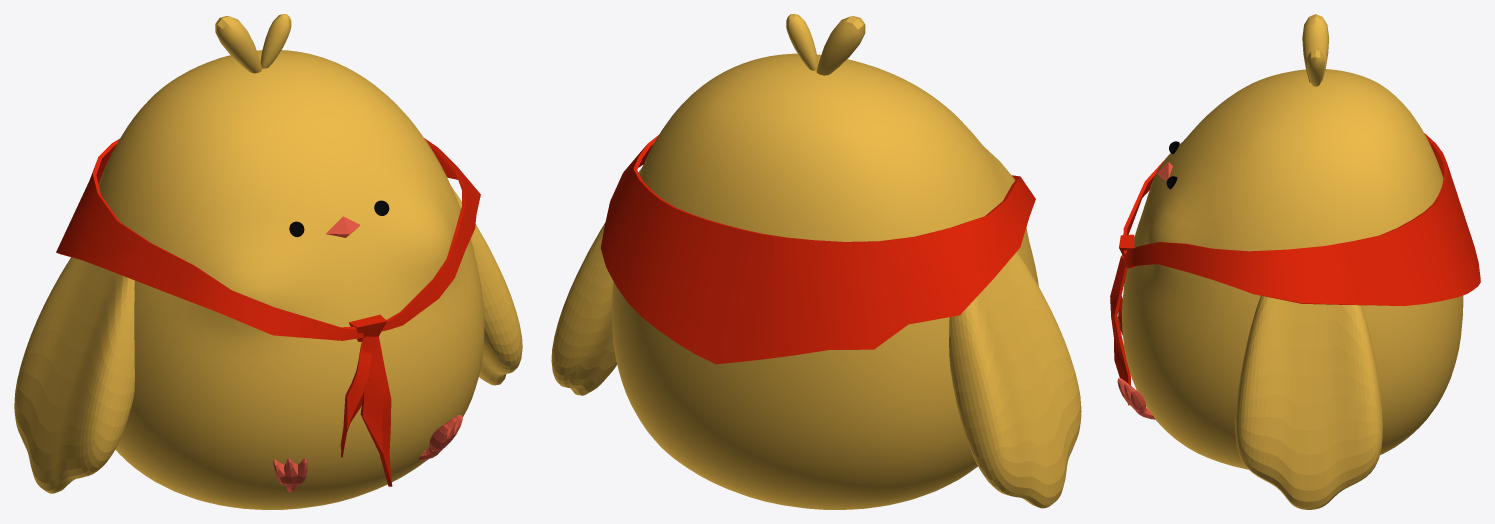
File: chick.fbx
3 views of the same model, side by side, from view 1: azimuth 30°, elevation 25°; view 2: azimuth 150°, elevation 25°; view 3: azimuth 270°, elevation 25° (orthographic). The views are drawn at different scales.
Parts seen in each view (by area): view 1: 立方体.034, 立方体.036, 平面.005, 平面.006, 立方体.037, 立方体.035, 平面.007, 立方体.038; view 2: 立方体.034, 平面.005, 立方体.036, 立方体.037; view 3: 立方体.034, 立方体.036, 平面.005, 立方体.037, 平面.006, 立方体.035.
Boxes of the visible parts, bbox=[...] form: 立方体.034: bbox=[98, 50, 484, 509]; 立方体.036: bbox=[14, 186, 522, 493]; 平面.005: bbox=[56, 138, 480, 340]; 平面.006: bbox=[360, 336, 392, 486]; 立方体.037: bbox=[215, 14, 291, 73]; 立方体.035: bbox=[273, 415, 462, 492]; 平面.007: bbox=[340, 340, 371, 457]; 立方体.038: bbox=[348, 314, 387, 341]; 立方体.034: bbox=[612, 53, 1038, 509]; 平面.005: bbox=[600, 135, 1035, 364]; 立方体.036: bbox=[551, 167, 1081, 508]; 立方体.037: bbox=[786, 14, 865, 75]; 立方体.034: bbox=[1122, 69, 1463, 469]; 立方体.036: bbox=[1235, 295, 1382, 509]; 平面.005: bbox=[1123, 133, 1480, 305]; 立方体.037: bbox=[1302, 14, 1328, 86]; 平面.006: bbox=[1110, 255, 1130, 405]; 立方体.035: bbox=[1117, 316, 1155, 419].
Size of the model in its own units: 65.7 by 63.53 by 51.51.
